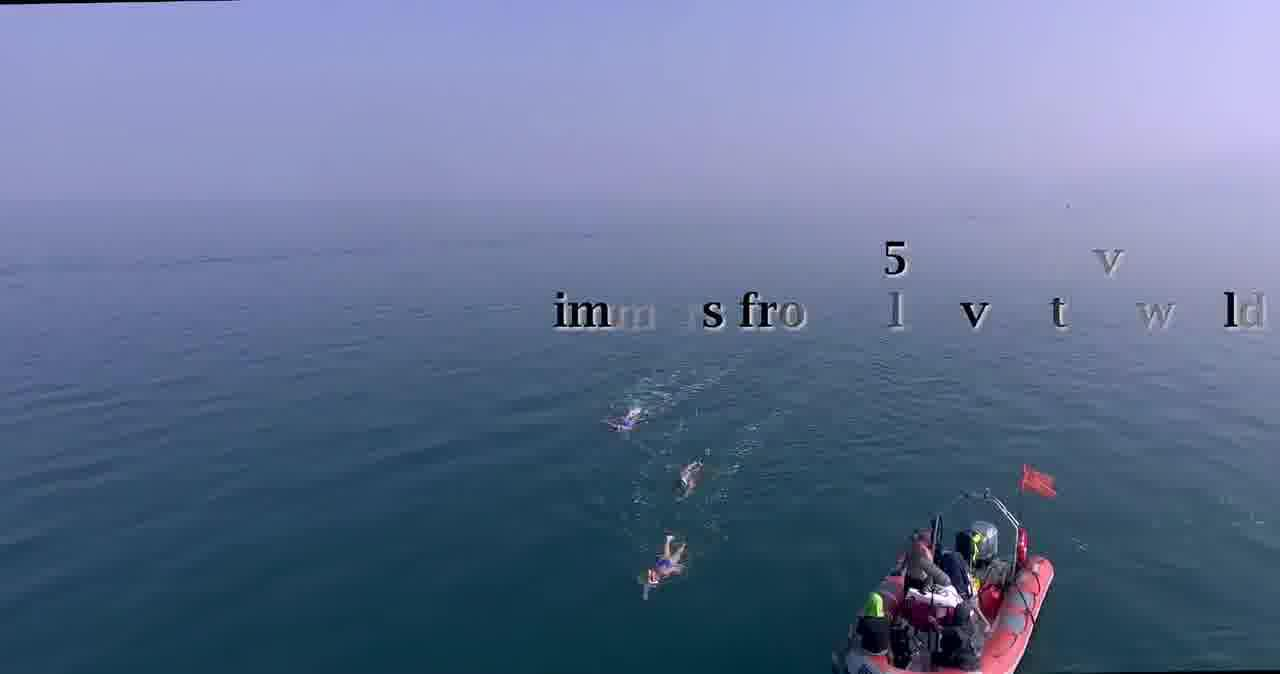swimmer: (634, 531, 692, 603), (672, 455, 707, 506)
